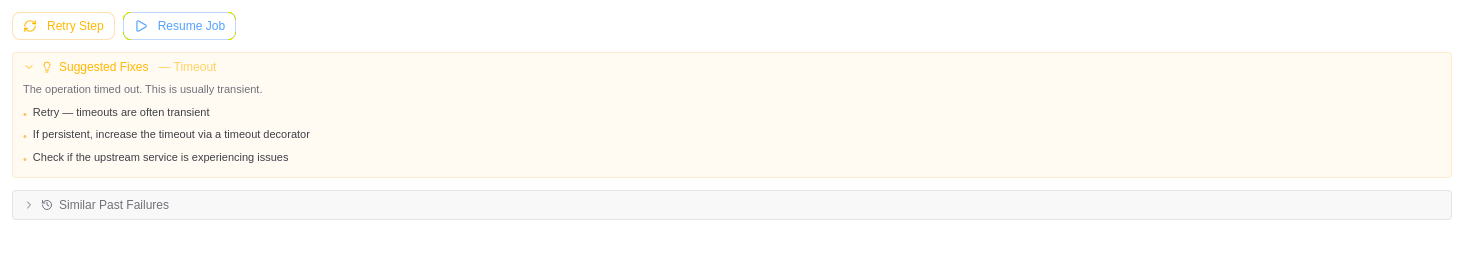
Test: ErrorRecoverySuggestions › shows empty state when no similar failures
Click the button "Similar Past Failures" at (114, 205), box top-left (13, 191), bottom-right (1451, 219)
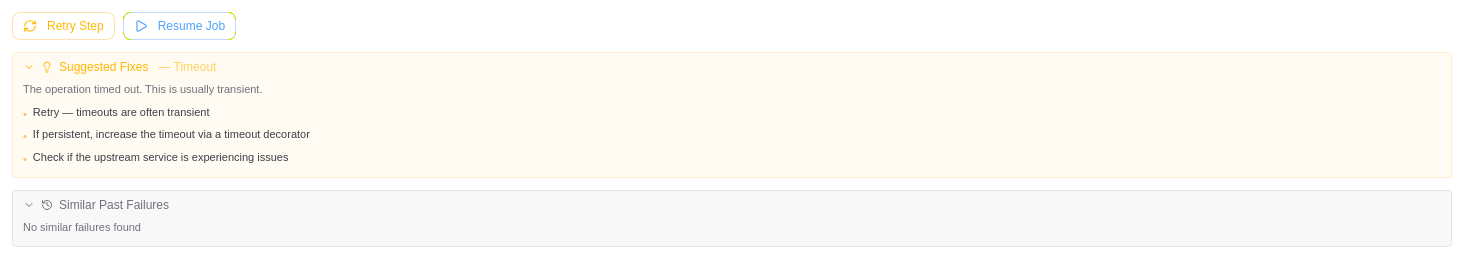
expect the text "No similar failures found" is shown: met, box top-left (23, 221), bottom-right (141, 233)
